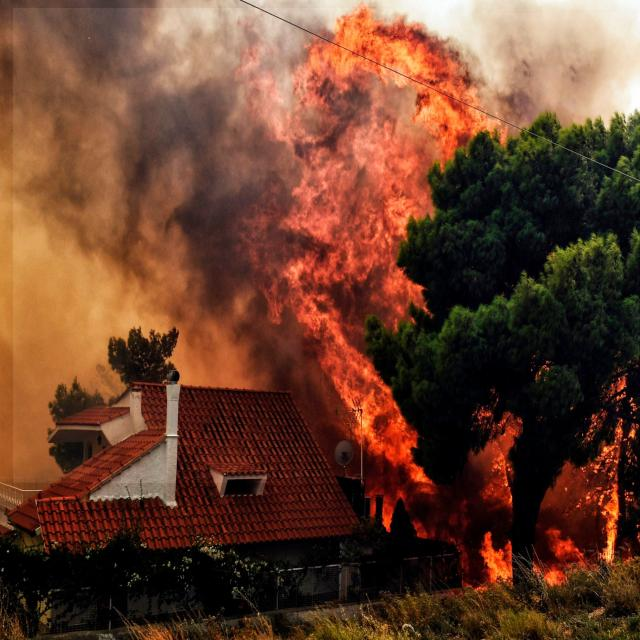Fire: (278, 13, 639, 596)
Smoke: (13, 8, 383, 483)
